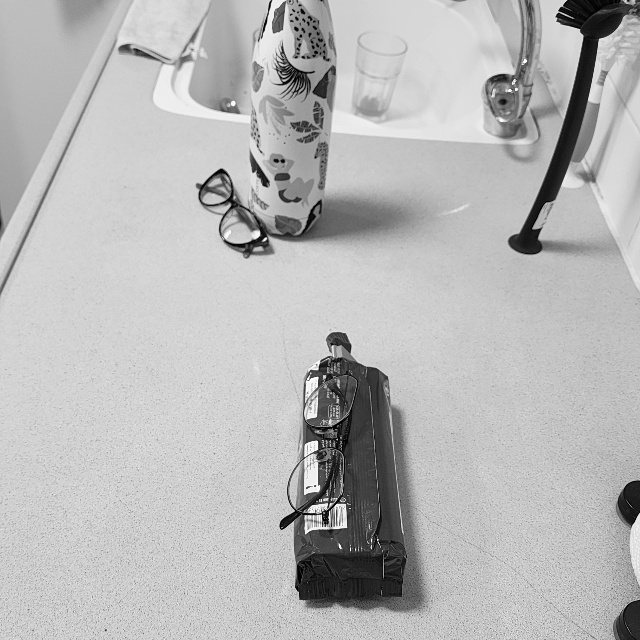glasses: (278, 368, 363, 532), (189, 163, 275, 262)
